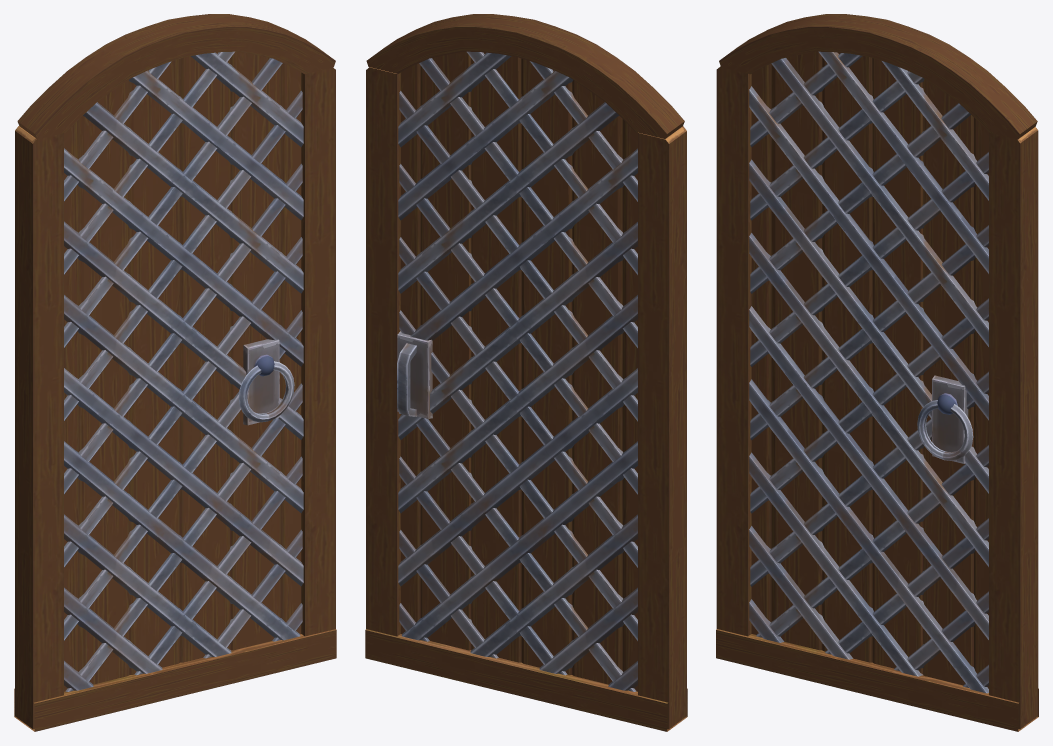
File: Door_4_Round.glb
The picture shows the model from 3 angles, left to right: view 1: azimuth 30°, elevation 25°; view 2: azimuth 150°, elevation 25°; view 3: azimuth 330°, elevation 25°; orthographic projection.
Visible parts, largest first — view 1: Door_4_Round; view 2: Door_4_Round; view 3: Door_4_Round.
Boxes of the visible parts, x1,y1,x2,y2 form: Door_4_Round: (14,14,336,731); Door_4_Round: (365,14,687,731); Door_4_Round: (716,14,1038,731).
Size of the model in its own units: 1.11 by 2.32 by 0.2093.
2 materials, 2 textured.
